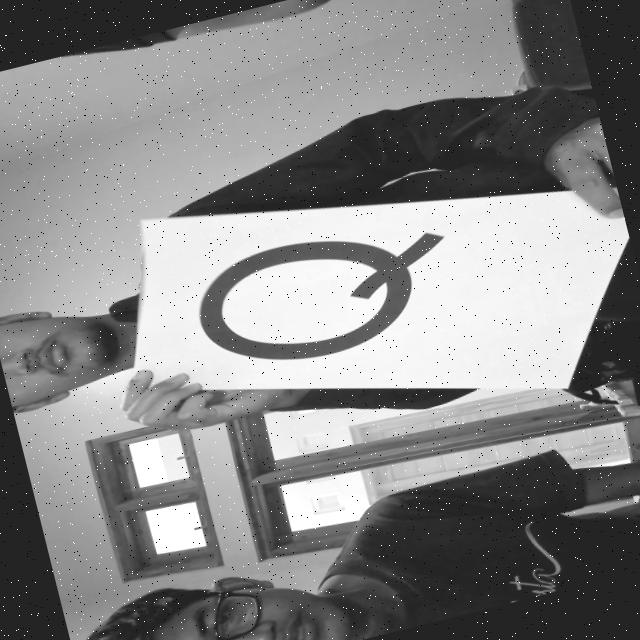q: (169, 199, 492, 396)
